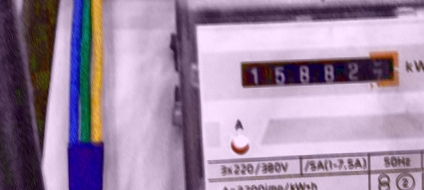1: (248, 65, 260, 85)
2: (346, 61, 359, 80)
5: (273, 65, 285, 85)
7: (372, 68, 383, 82)
8: (297, 63, 310, 84), (322, 63, 335, 84)
screen: (232, 46, 408, 96)
